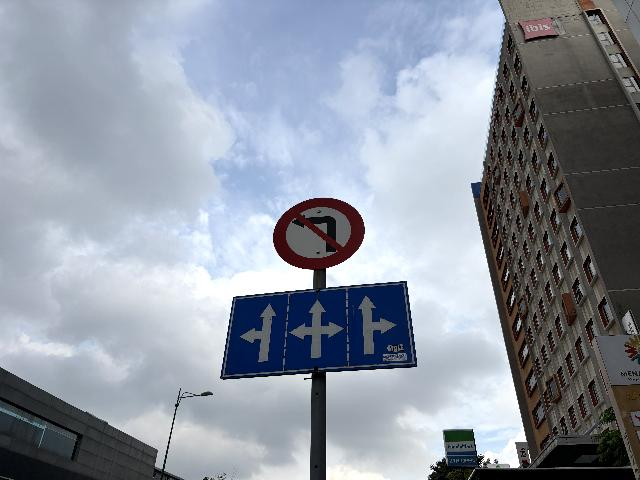cam-re-trai: (272, 197, 366, 269)
